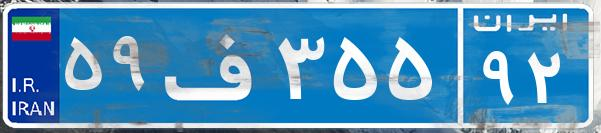2: (525, 38, 570, 115)
3: (273, 28, 330, 110)
5: (385, 28, 445, 110), (330, 28, 385, 110), (57, 26, 110, 107)
9: (475, 38, 525, 113), (110, 28, 158, 105)
ف: (158, 15, 273, 115)
